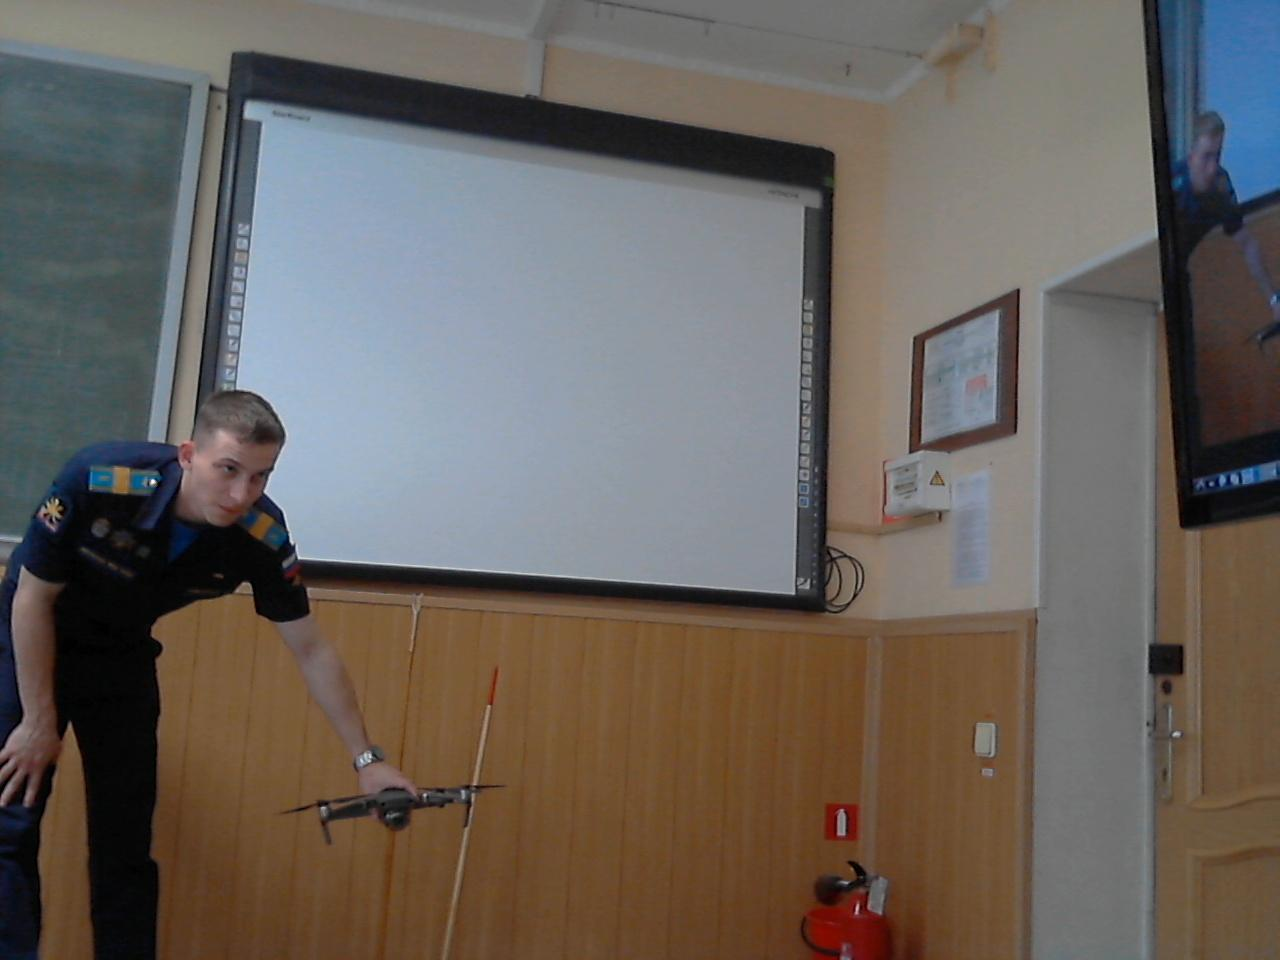drone: (272, 756, 502, 851)
